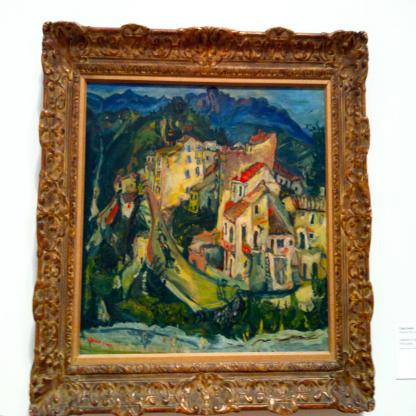picture frame: (31, 23, 353, 402)
